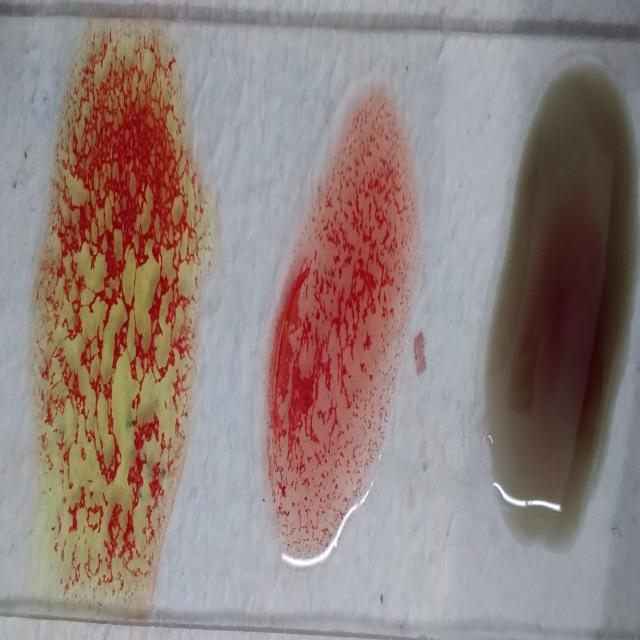B: (39, 18, 201, 608)
D: (270, 73, 417, 557)
